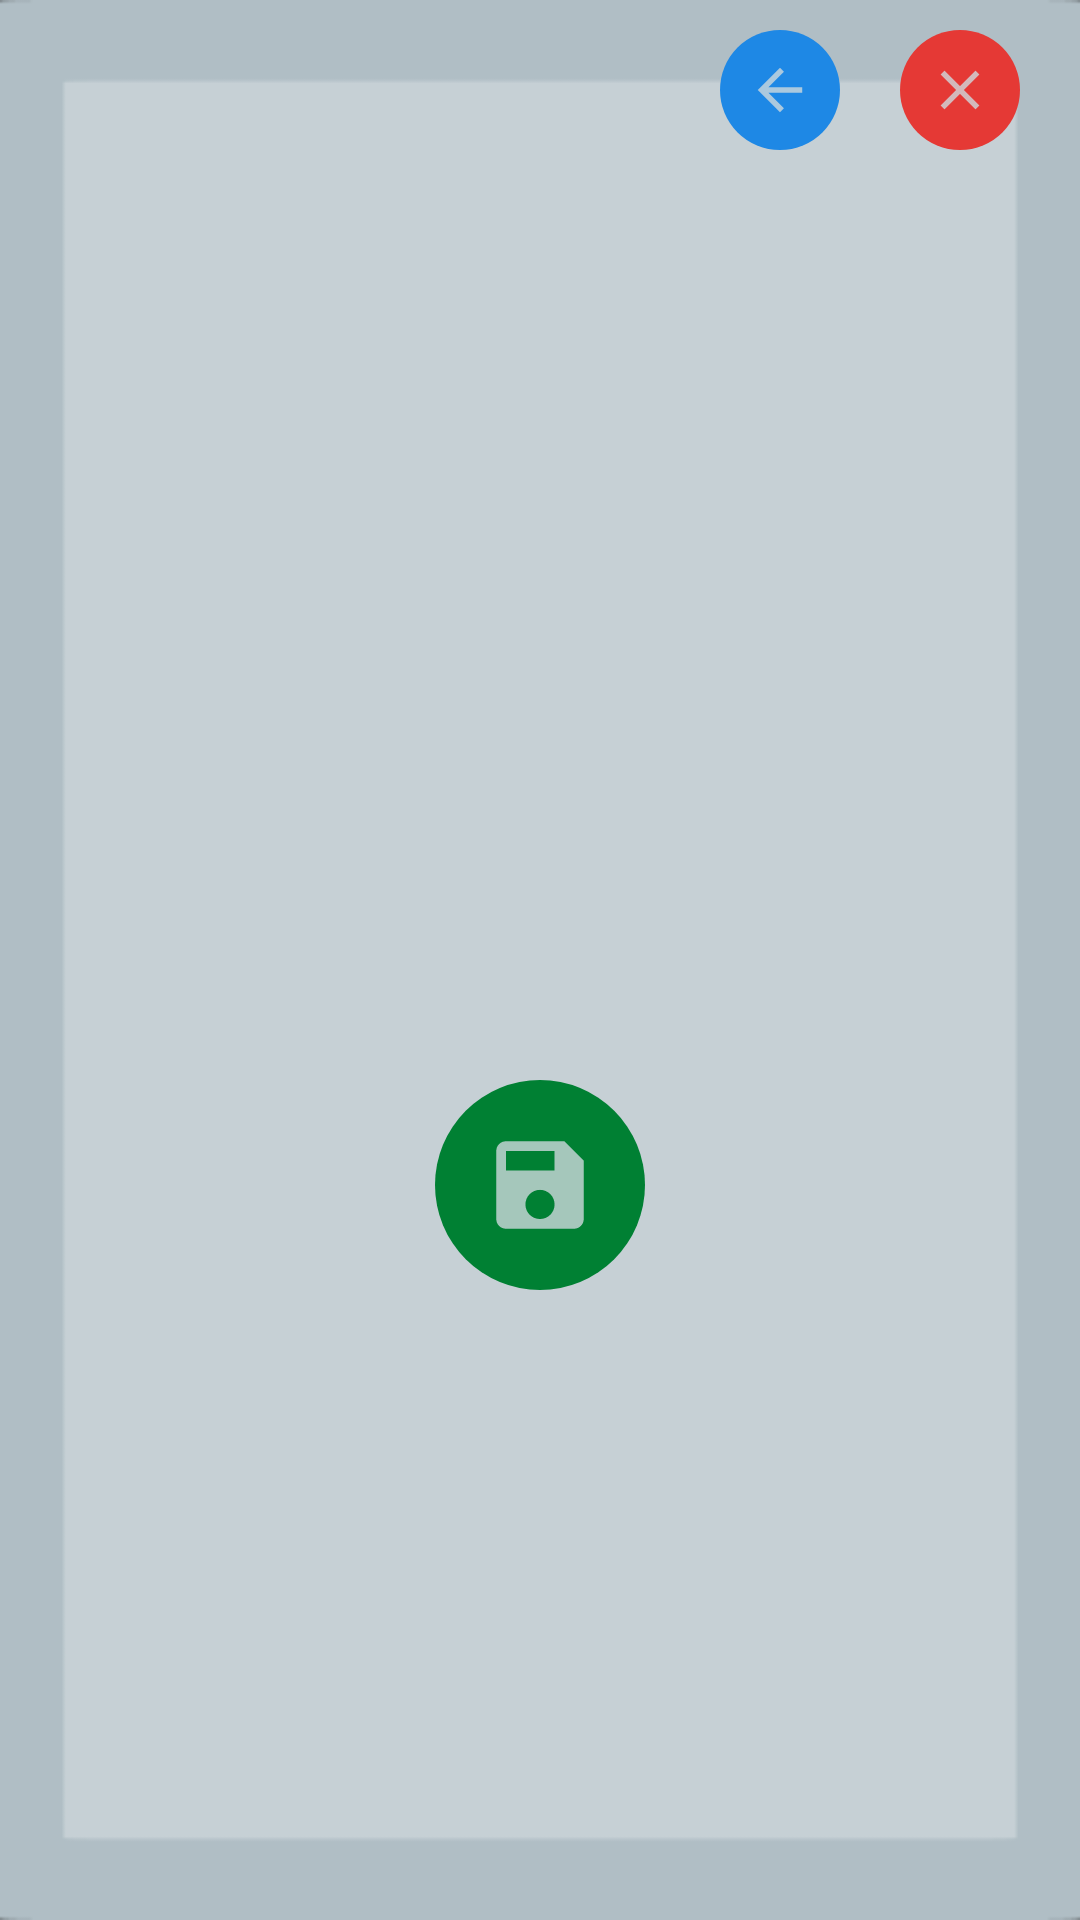

Icons on this 1080w x 1920h Android screen, each with the point to tap as (x,y):
Back: (780,90)
Close: (960,90)
Save: (540,1185)
